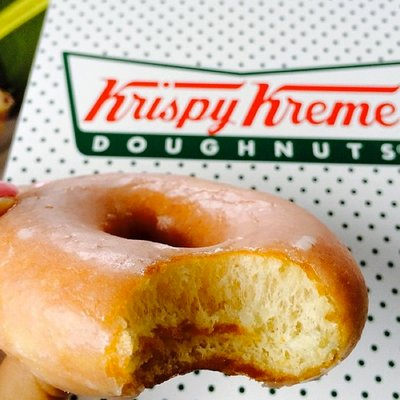salad: (0, 171, 363, 397)
